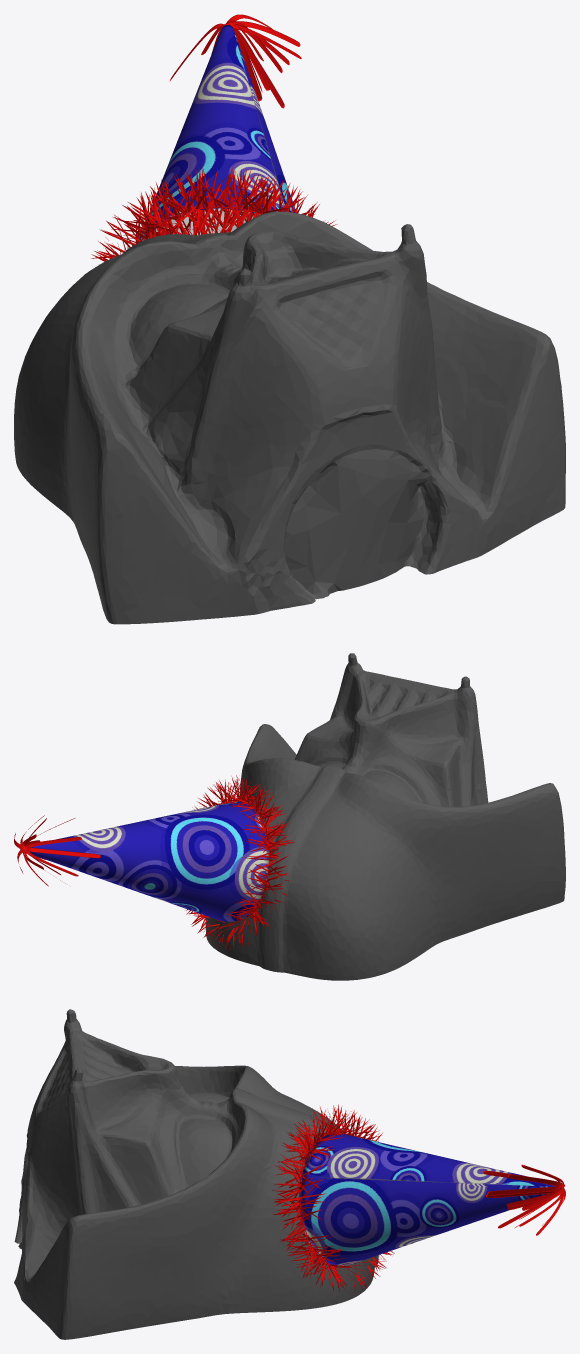
File: Vader.gltf
3 views of the same model, one above another, from view 1: azimuth 30°, elevation 25°; view 2: azimuth 150°, elevation 25°; view 3: azimuth 270°, elevation 25° (orthographic). The views are drawn at different scales.
Parts seen in each view (by area): view 1: Vader, 12179_Hat_v1_l2; view 2: Vader, 12179_Hat_v1_l2; view 3: Vader, 12179_Hat_v1_l2.
Part boxes in pixels (x1,y1,x2,y2): Vader: [14, 211, 565, 624]; 12179_Hat_v1_l2: [91, 14, 337, 264]; Vader: [205, 653, 565, 980]; 12179_Hat_v1_l2: [14, 775, 294, 949]; Vader: [14, 1009, 378, 1339]; 12179_Hat_v1_l2: [272, 1104, 565, 1291].
Bounding box in the file's own units: 8.83 × 5.08 × 11.4.
Materials: 3 (1 with a texture image).
